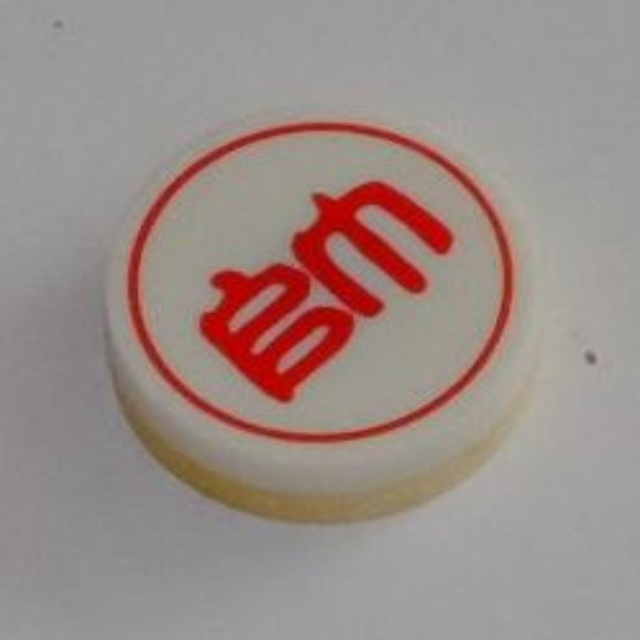red_tuong: (103, 90, 560, 540)
